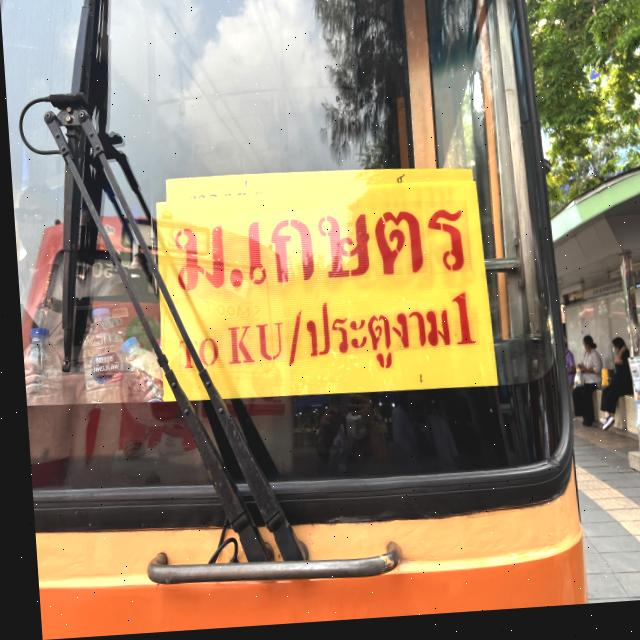BMTA-bus: (0, 0, 581, 640)
Destination-Sign-Extra-Bus-Expressway: (151, 190, 493, 406)
